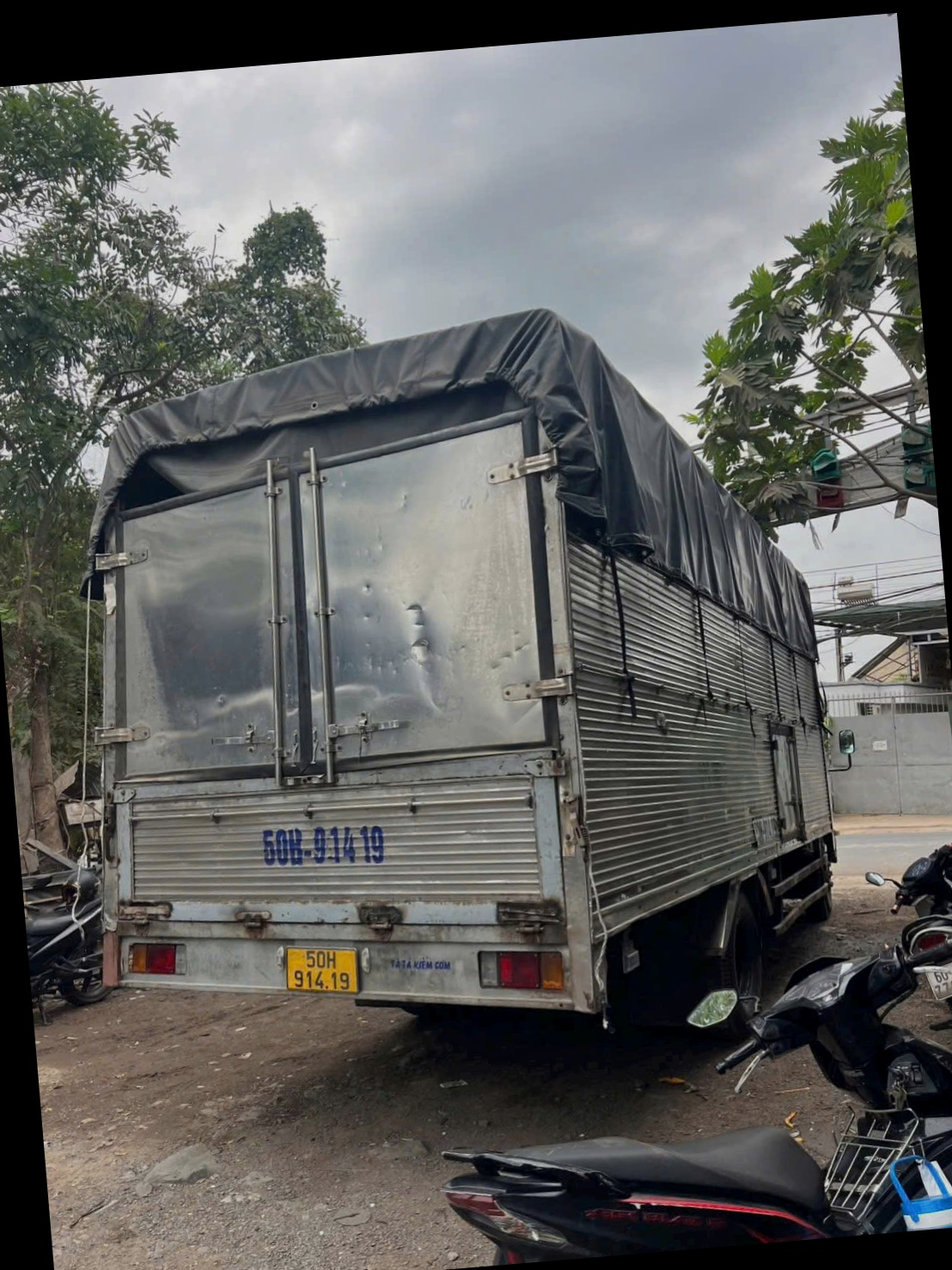Bien-so: (248, 885, 337, 944), (894, 916, 952, 962)
